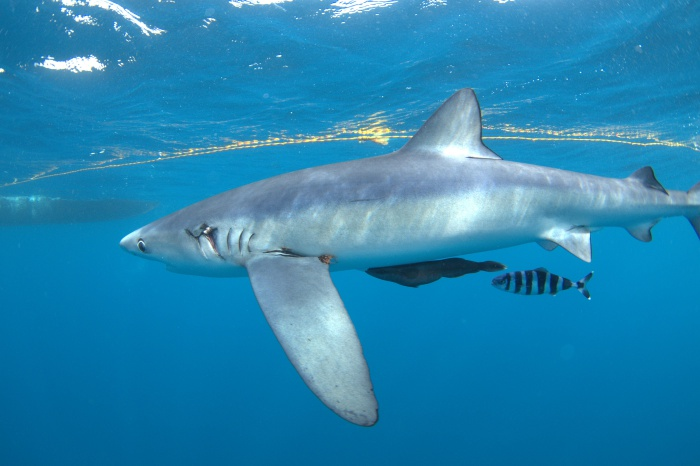Azul: (109, 84, 700, 438)
